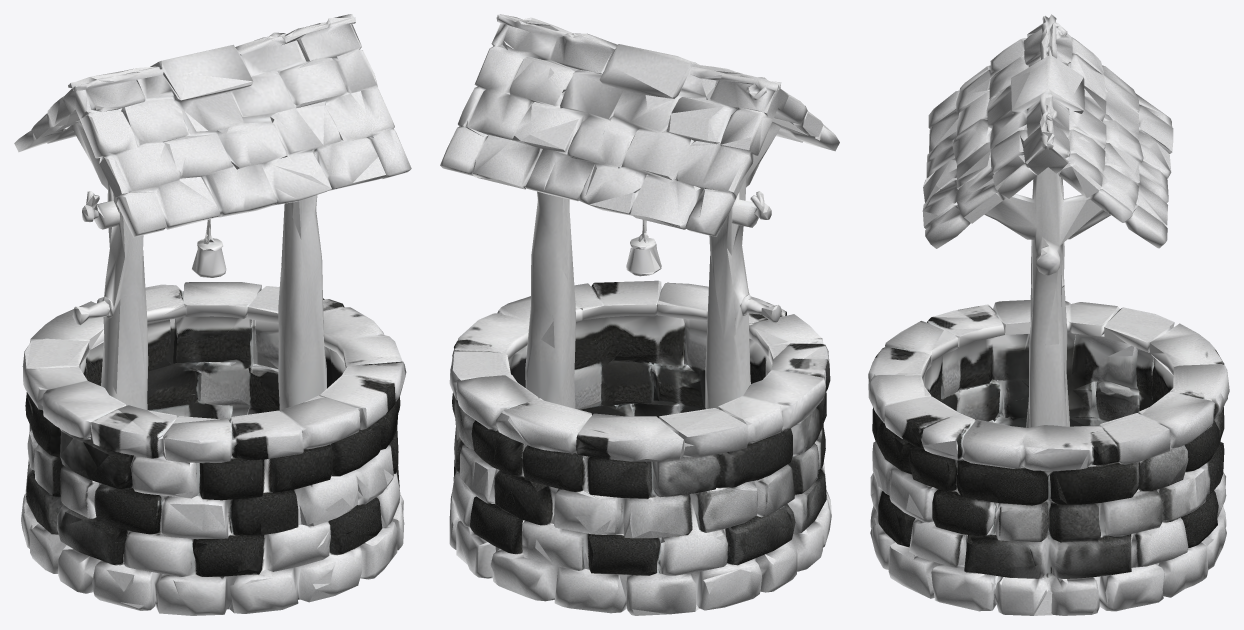
The model's file is Puit.fbx.
3 views of the same model, side by side, from view 1: azimuth 30°, elevation 25°; view 2: azimuth 150°, elevation 25°; view 3: azimuth 270°, elevation 25° (orthographic). The views are drawn at different scales.
Visible parts, largest first — view 1: output_unwrapped; view 2: output_unwrapped; view 3: output_unwrapped.
Part boxes in pixels (x1=…): output_unwrapped: x1=14, y1=14, x2=411, y2=615; output_unwrapped: x1=440, y1=14, x2=839, y2=615; output_unwrapped: x1=868, y1=14, x2=1229, y2=615.
Size of the model in its own units: 132 by 190 by 134.
1 material, 1 textured.
